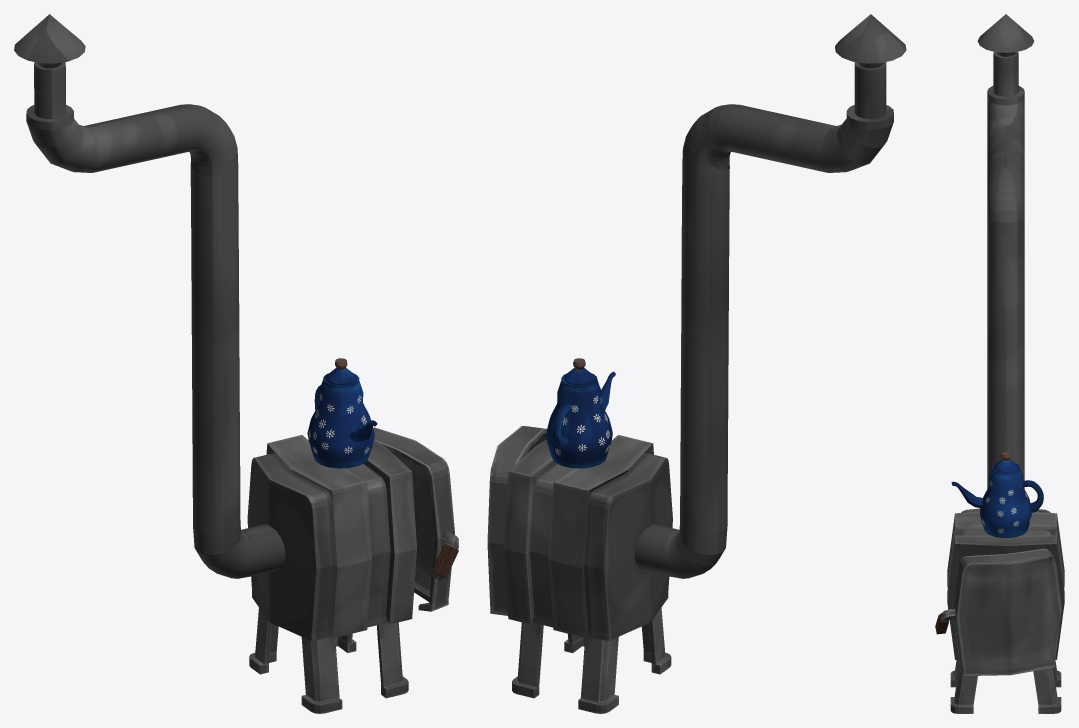
Rendered from Stove-1.fbx.
3 views of the same model, side by side, from view 1: azimuth 30°, elevation 25°; view 2: azimuth 150°, elevation 25°; view 3: azimuth 270°, elevation 25° (orthographic). The views are drawn at different scales.
Parts seen in each view (by area): view 1: Stove-Pipe, Stove, StoveDoor, KettleLid, StoveLeg, StoveLeg.001, StoveHandle; view 2: Stove-Pipe, Stove, KettleLid, StoveDoor, StoveLeg, StoveLeg.001; view 3: Stove-Pipe, StoveDoor, Stove, KettleLid, StoveLeg.001, StoveHandle, StoveLeg.
Part boxes in pixels (x1,y1,x2,y2): Stove-Pipe: [14, 14, 285, 578]; Stove: [247, 435, 416, 640]; StoveDoor: [373, 427, 454, 611]; KettleLid: [307, 358, 377, 468]; StoveLeg: [249, 608, 342, 713]; StoveLeg.001: [335, 622, 408, 698]; StoveHandle: [431, 530, 458, 580]; Stove-Pipe: [634, 14, 906, 578]; Stove: [503, 435, 672, 640]; KettleLid: [545, 358, 615, 468]; StoveDoor: [487, 426, 546, 615]; StoveLeg: [578, 607, 671, 713]; StoveLeg.001: [512, 622, 584, 698]; Stove-Pipe: [977, 14, 1034, 488]; StoveDoor: [953, 548, 1061, 675]; Stove: [947, 508, 1064, 659]; KettleLid: [951, 451, 1043, 537]; StoveLeg.001: [950, 664, 1061, 713]; StoveHandle: [935, 609, 955, 634]; StoveLeg: [950, 660, 1061, 687].
Size of the model in its own units: 2149 by 3711 by 758.
